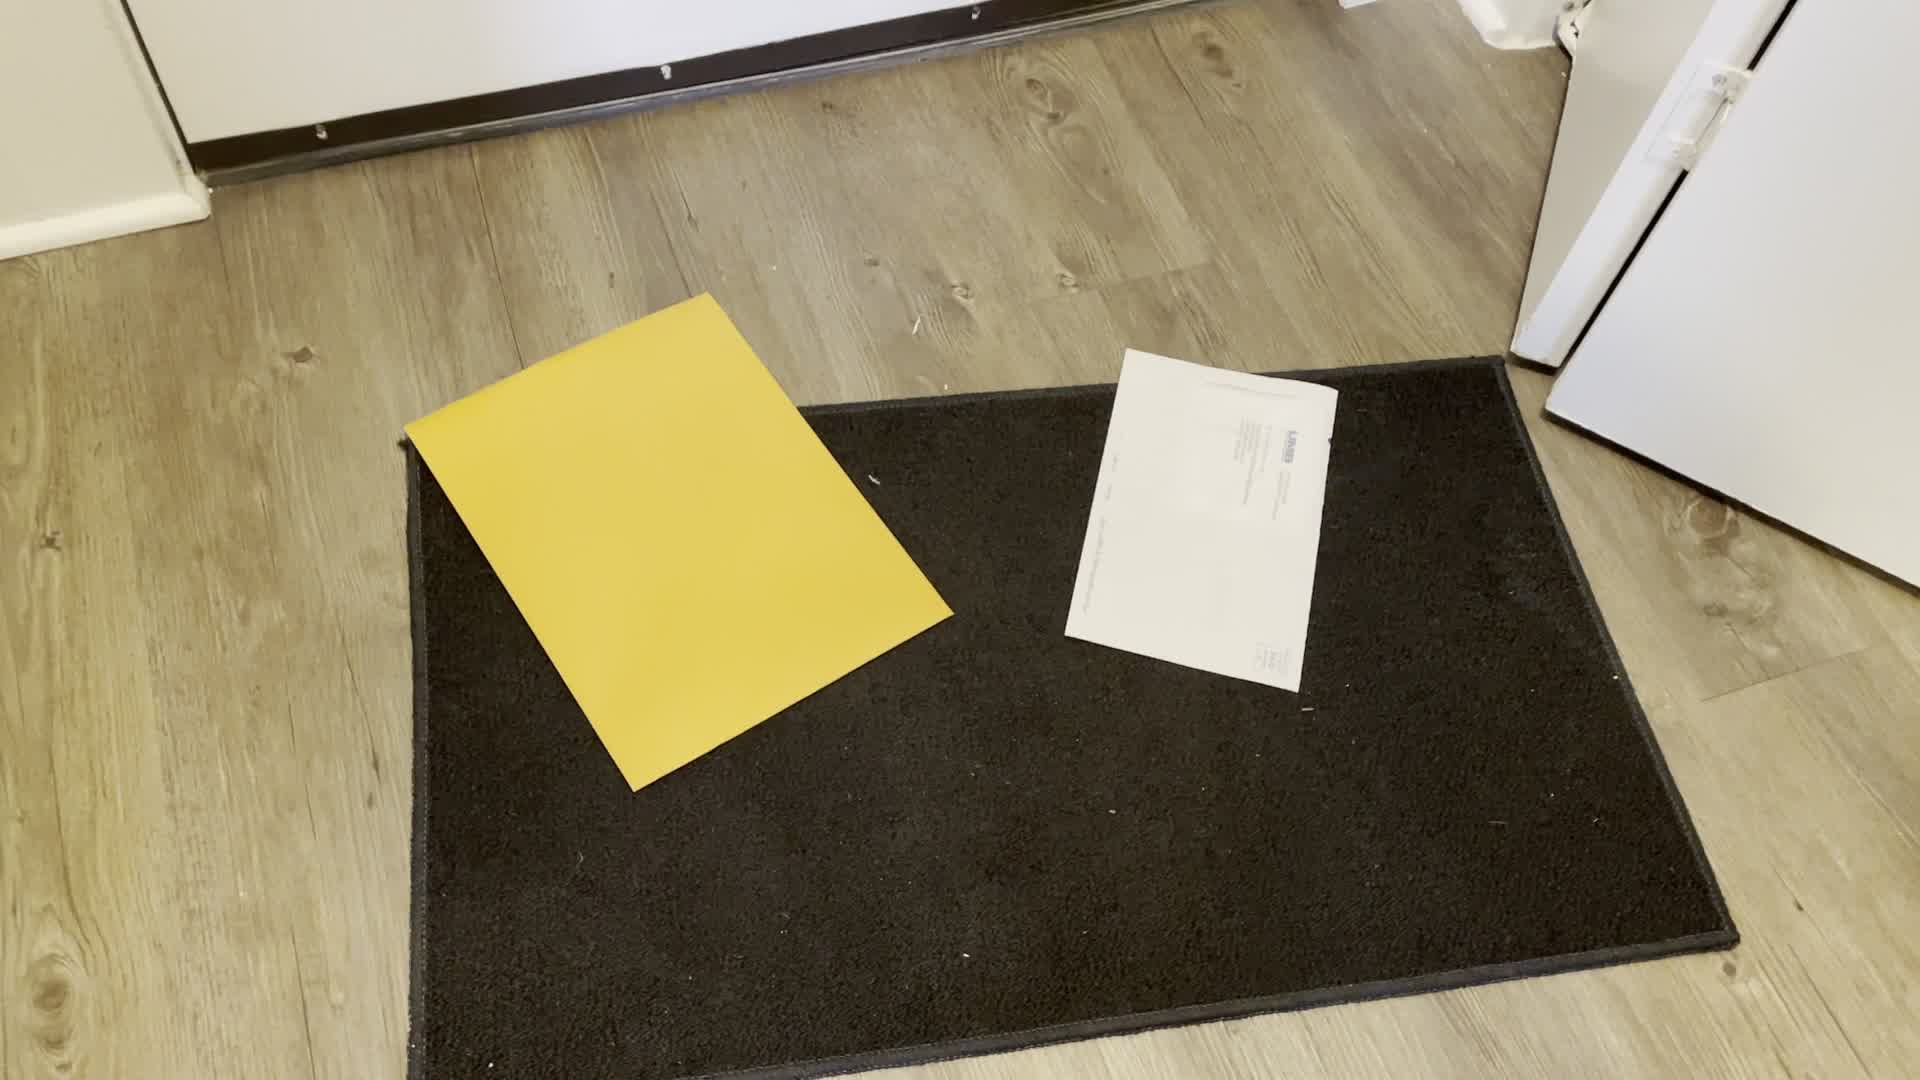envelope: (386, 280, 963, 798), (1054, 338, 1344, 700)
